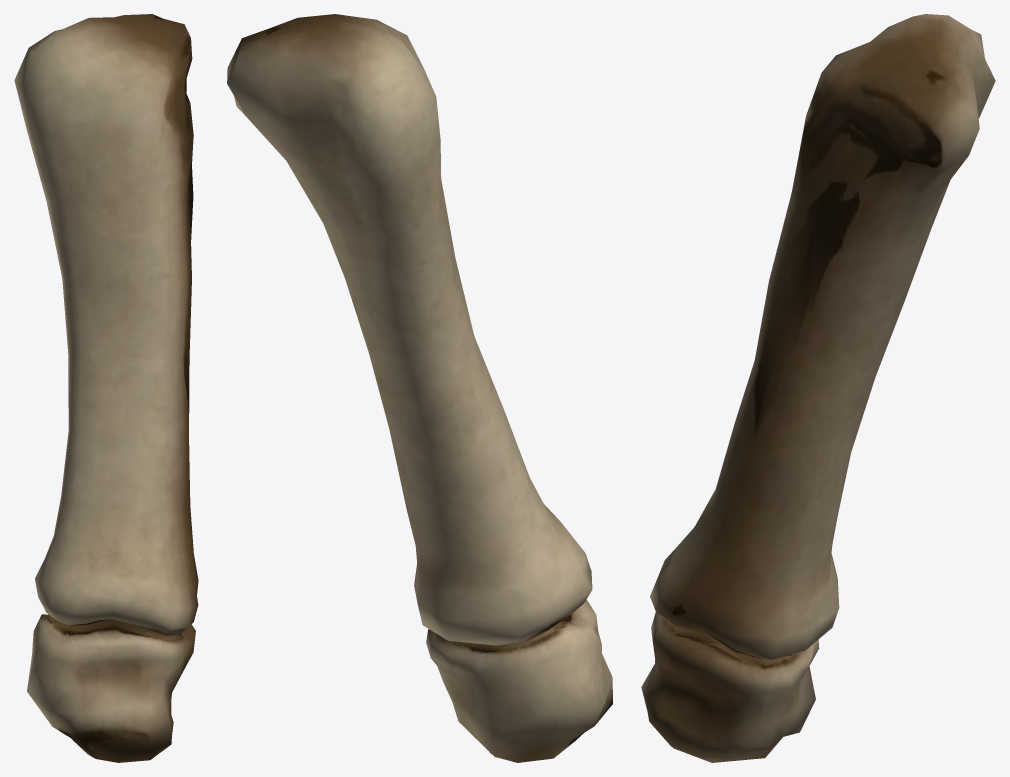
Rendered from Metacarpal_V.glb.
The picture shows the model from 3 angles, left to right: view 1: azimuth 30°, elevation 25°; view 2: azimuth 150°, elevation 25°; view 3: azimuth 270°, elevation 25°; orthographic projection. The views are drawn at different scales.
Parts seen in each view (by area): view 1: Metacarpal_V_Right1:Group37040; view 2: Metacarpal_V_Right1:Group37040; view 3: Metacarpal_V_Right1:Group37040.
Part boxes in pixels (bbox=[...]): Metacarpal_V_Right1:Group37040: bbox=[14, 14, 198, 762]; Metacarpal_V_Right1:Group37040: bbox=[227, 14, 612, 762]; Metacarpal_V_Right1:Group37040: bbox=[641, 14, 995, 762].
Bounding box in the file's own units: 16.97 × 45.33 × 18.99.
1 material, 1 textured.
